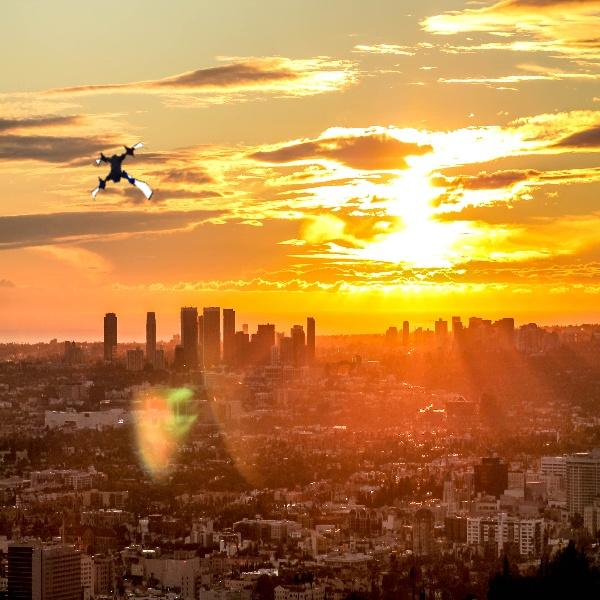drone: (85, 142, 164, 221)
